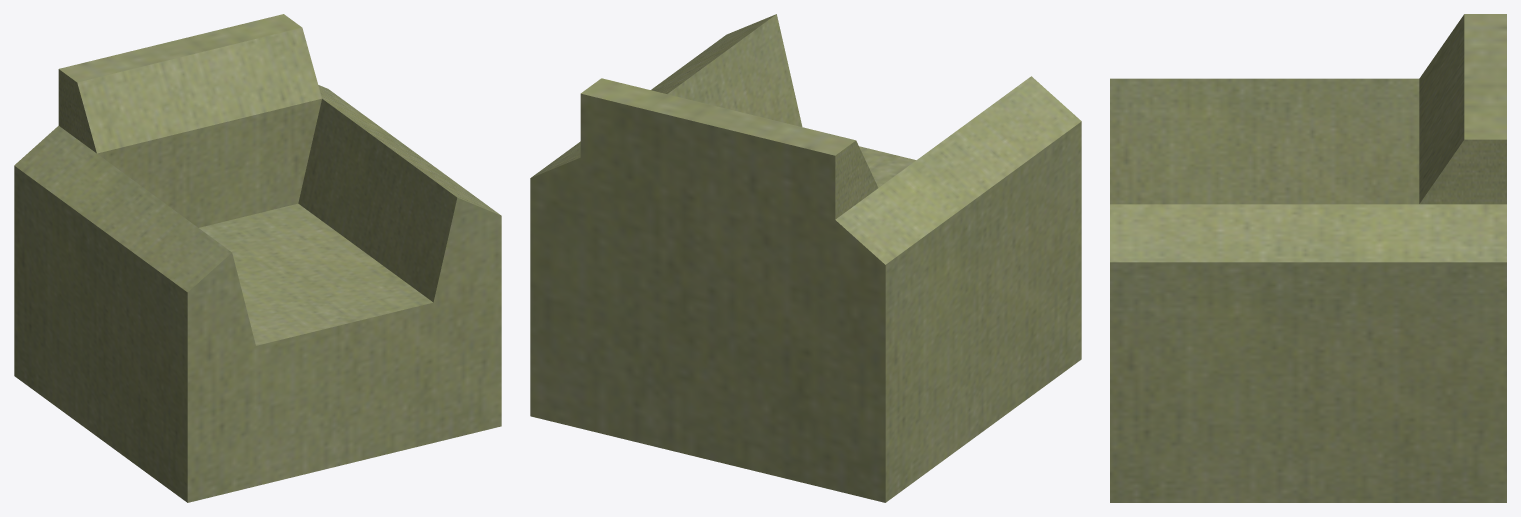
File: ArmChair_2.fbx
3 views of the same model, side by side, from view 1: azimuth 30°, elevation 25°; view 2: azimuth 150°, elevation 25°; view 3: azimuth 270°, elevation 25° (orthographic). The views are drawn at different scales.
Parts seen in each view (by area): view 1: Maya_File_Assets:TexturedAssetsCurrent:QuentonAssets02:Singl; view 2: Maya_File_Assets:TexturedAssetsCurrent:QuentonAssets02:Singl; view 3: Maya_File_Assets:TexturedAssetsCurrent:QuentonAssets02:Singl.
Boxes of the visible parts, box(x1,y1,x2,y2) form: Maya_File_Assets:TexturedAssetsCurrent:QuentonAssets02:Singl: box(14, 14, 501, 502); Maya_File_Assets:TexturedAssetsCurrent:QuentonAssets02:Singl: box(530, 14, 1081, 502); Maya_File_Assets:TexturedAssetsCurrent:QuentonAssets02:Singl: box(1110, 14, 1506, 502).
Bounding box in the file's own units: 1.35 × 1.22 × 1.29.
